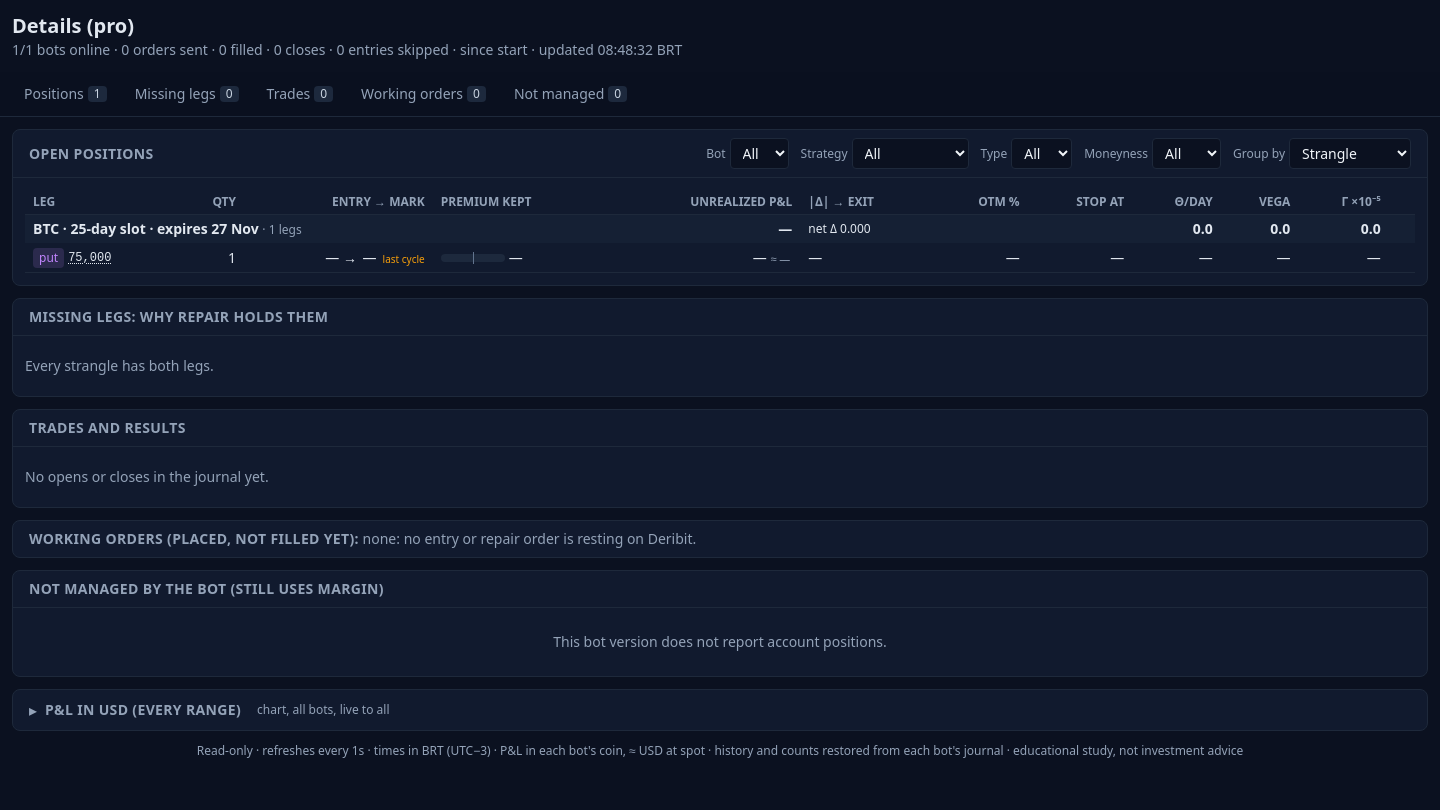
Test: Scenario: open from a leg › focus is trapped inside the dialog; × closes it
The width and height of the screenshot is (1440, 810).
Click the button "75,000" at (90,258), box left=68, top=250, right=111, bottom=266
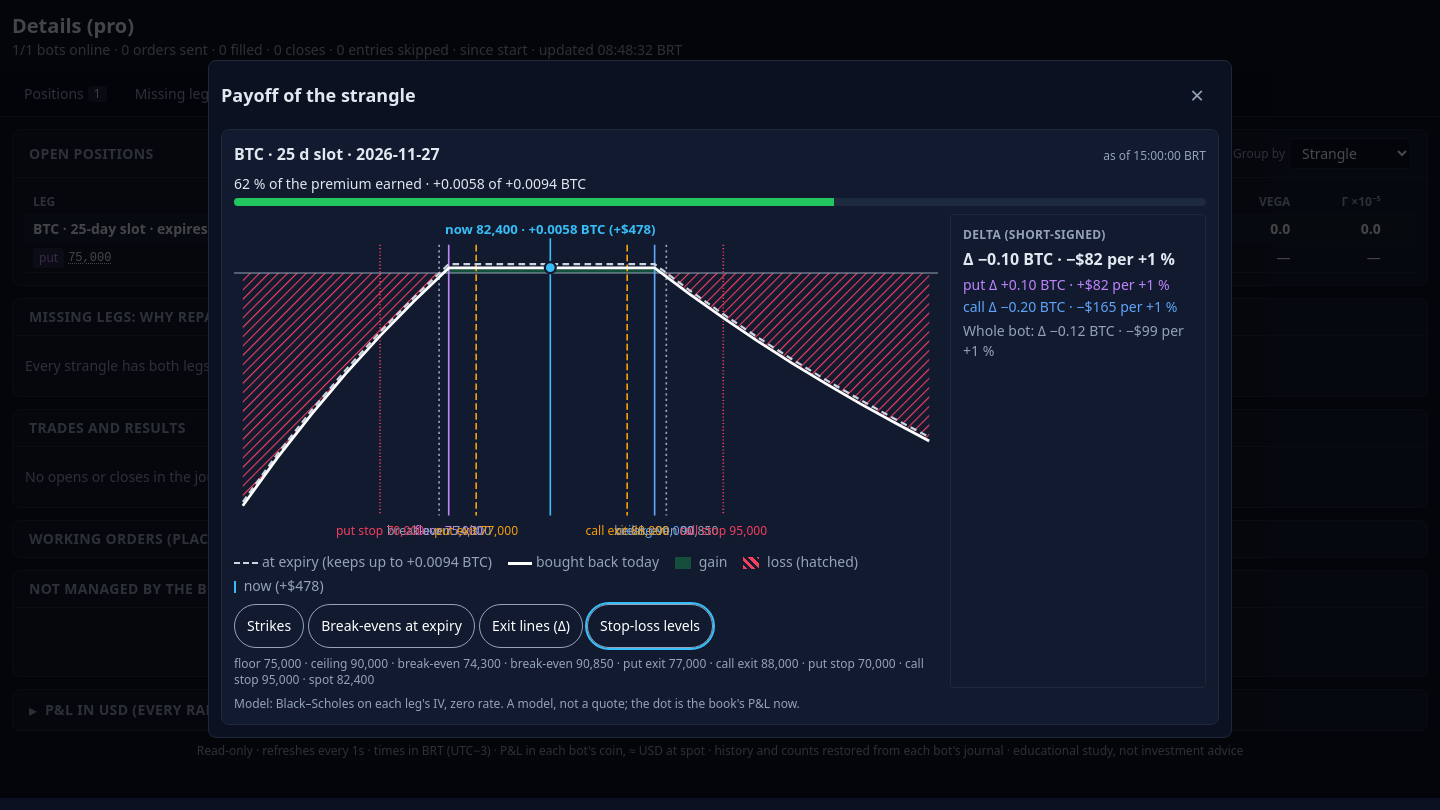
Press Tab in the dialog, box left=208, top=60, right=1232, bottom=738
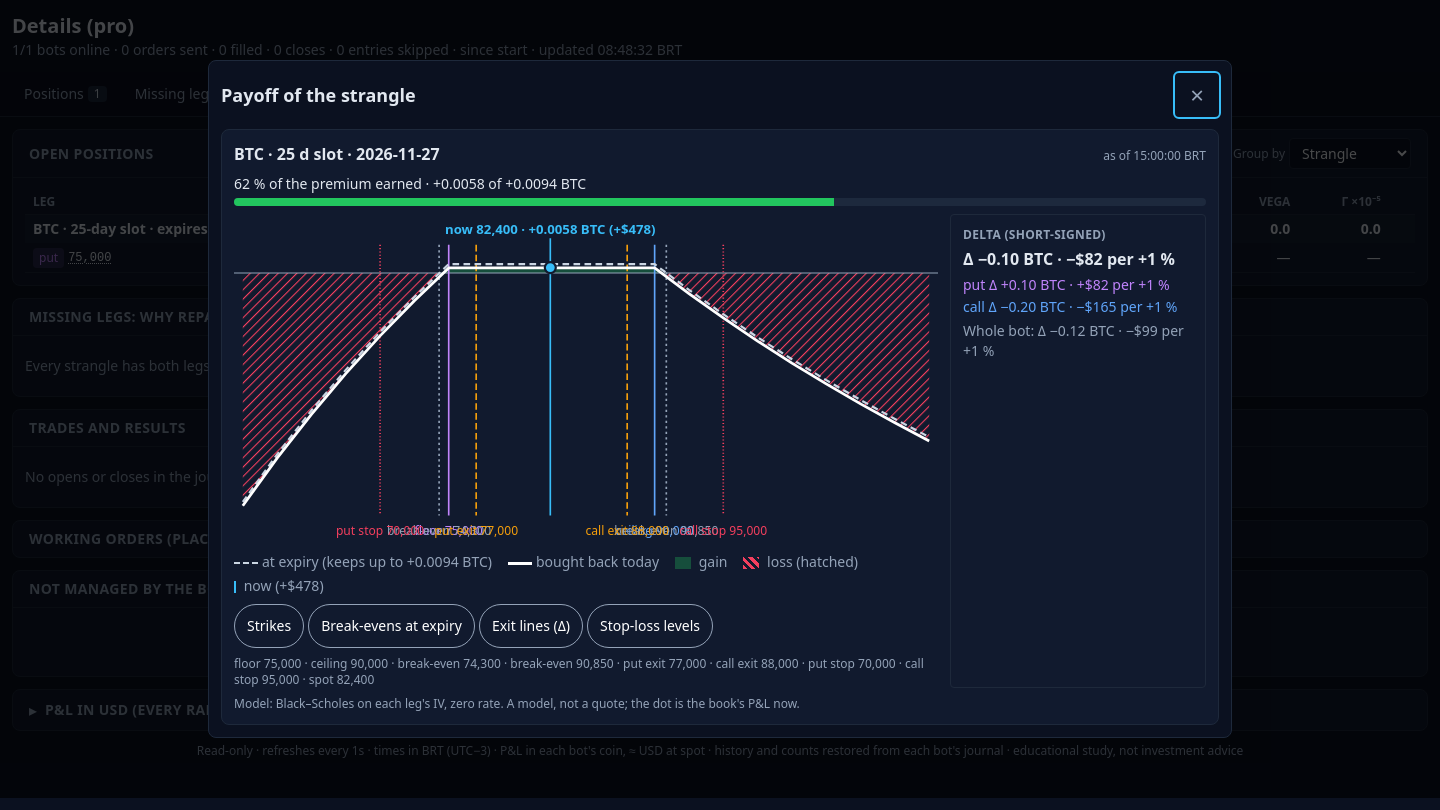
Press Tab in the dialog, box left=208, top=60, right=1232, bottom=738
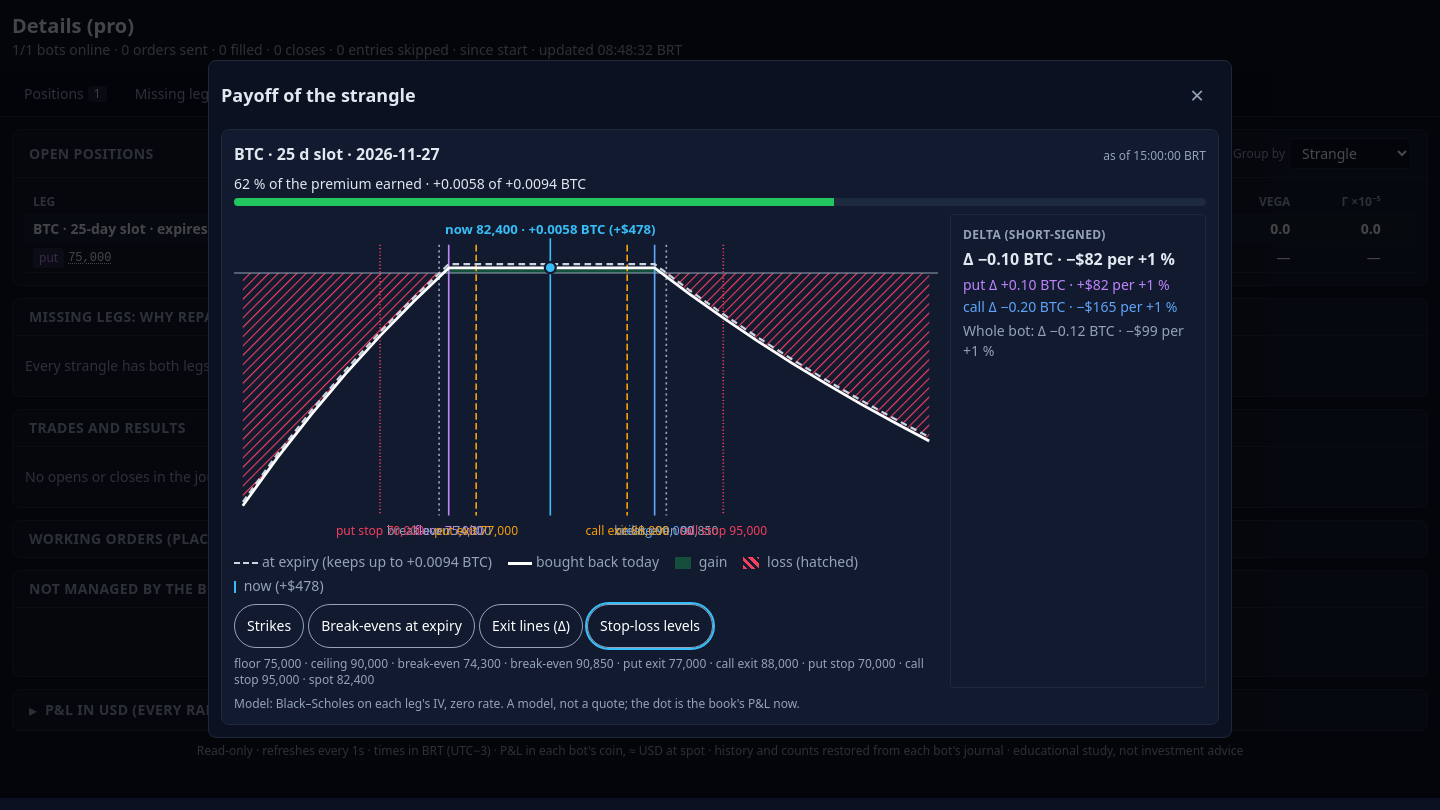
Click the button named "Close" at (1197,95), box left=1175, top=73, right=1219, bottom=117
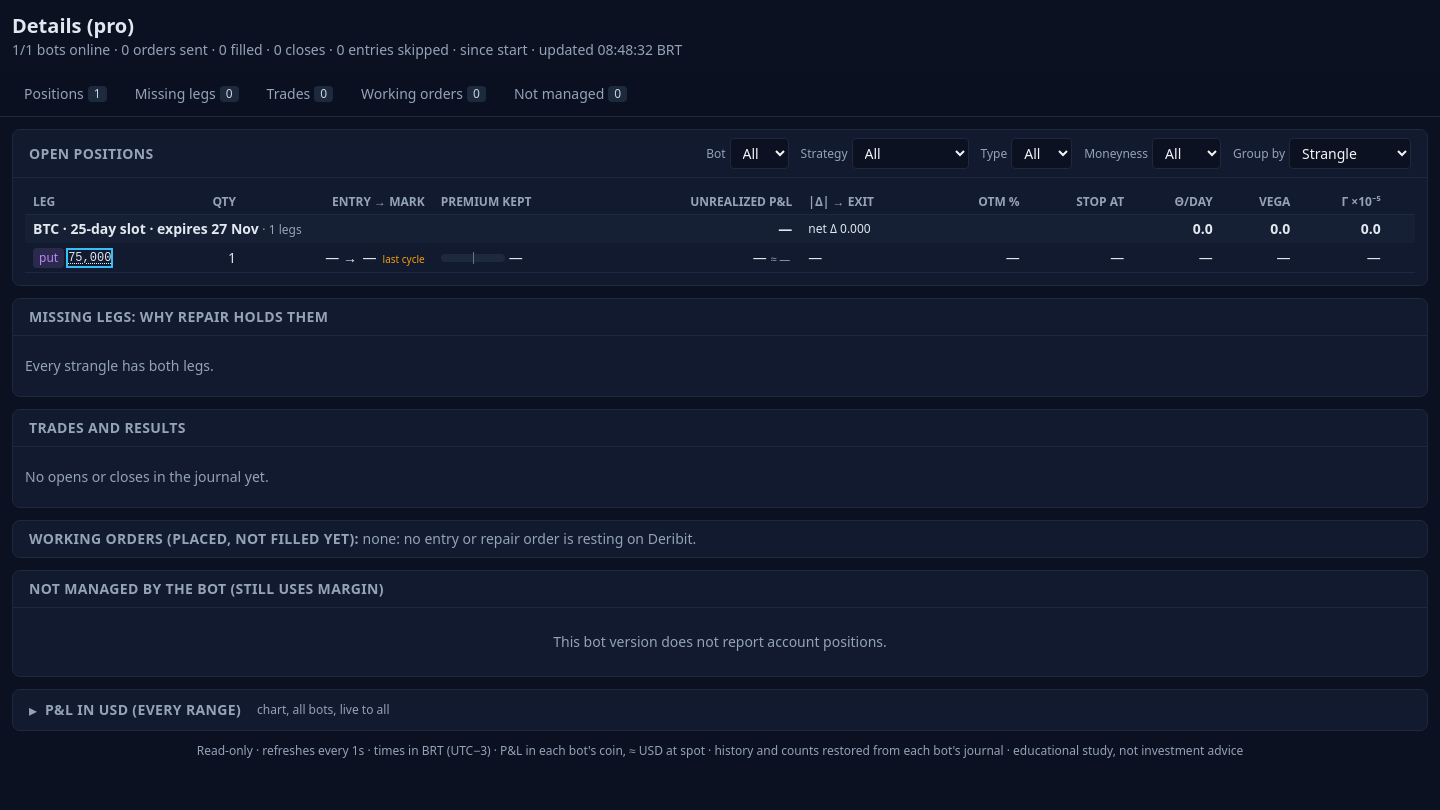
expect the dialog is gone: met
